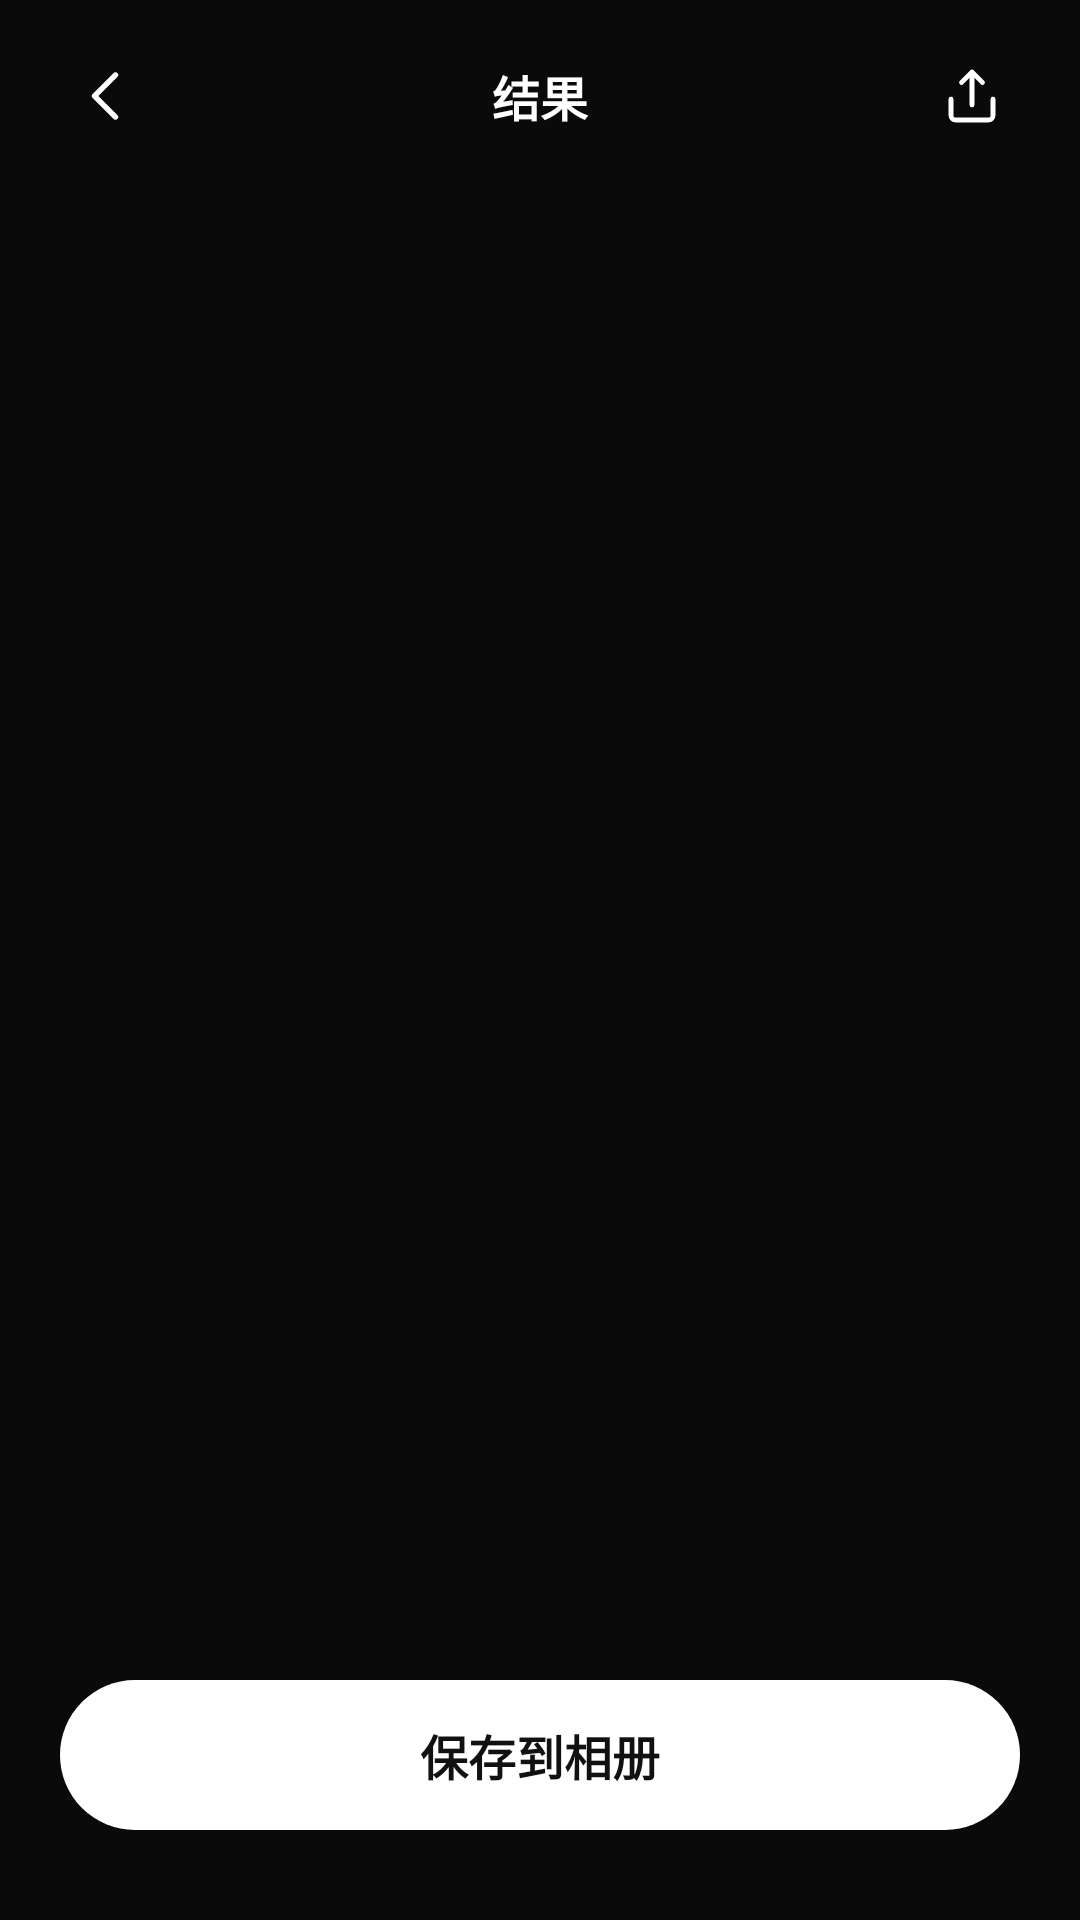

Screen size 1080px×1920px. Icon name, then its center in pixels as point (x, y):
分享: point (972, 96)
返回: point (105, 96)
